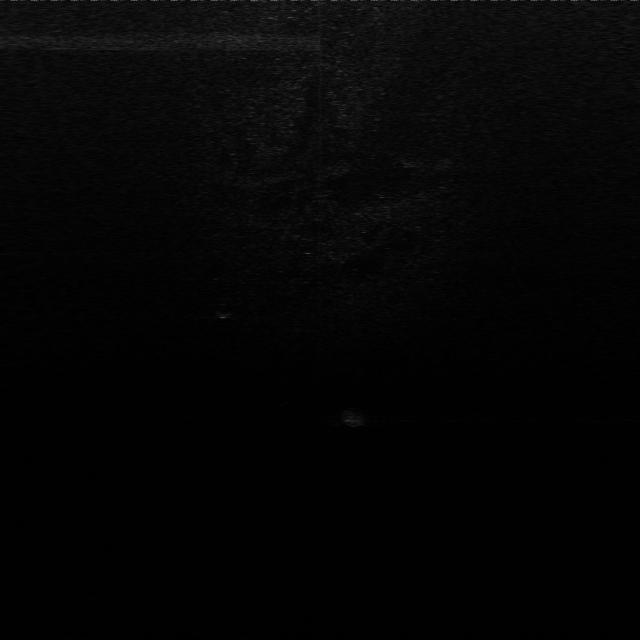ball: (211, 302, 237, 321)
circle cage: (336, 407, 370, 429)
